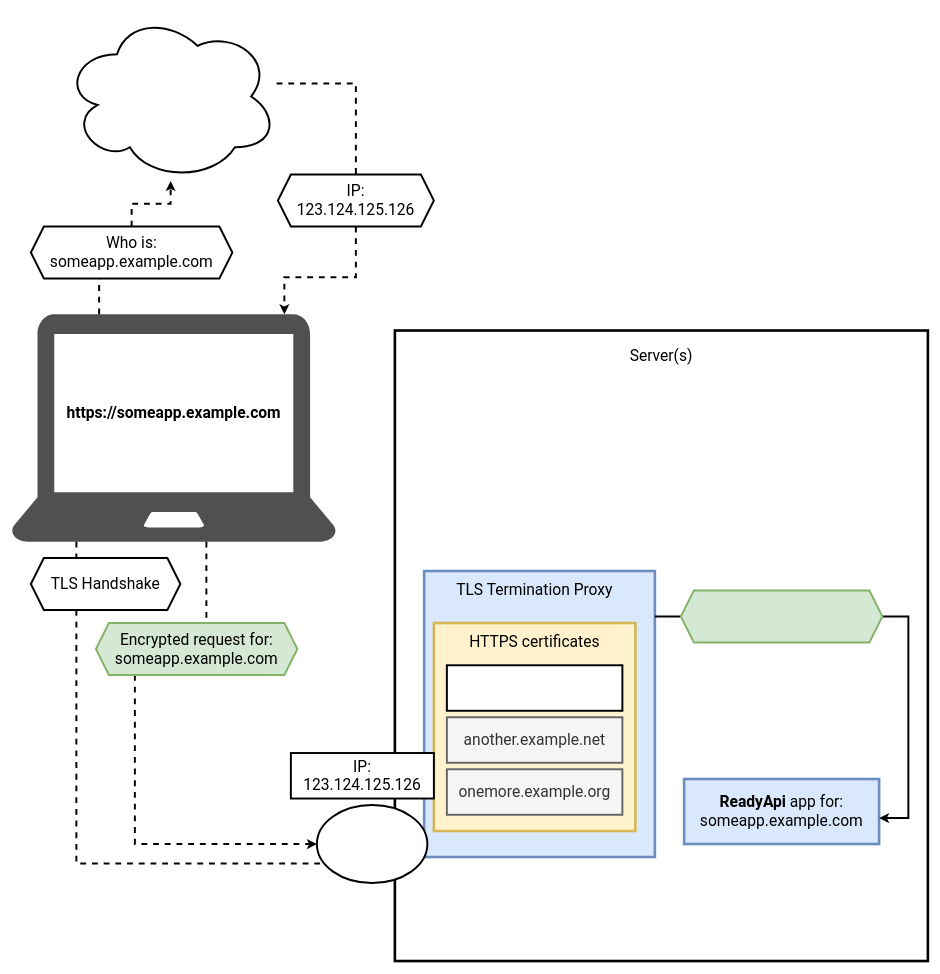
This 940x974 diagram has some shape labels left out. The shapes that lost their labels are listed below. From the top down, each one's centre as x and y in pixels, then its label:
At (170,96): "DNS Servers".
At (781,616): "Decrypted request for: someapp.example.com".
At (534,687): "someapp.example.com".
At (372,844): "Port 443 (HTTPS)".
